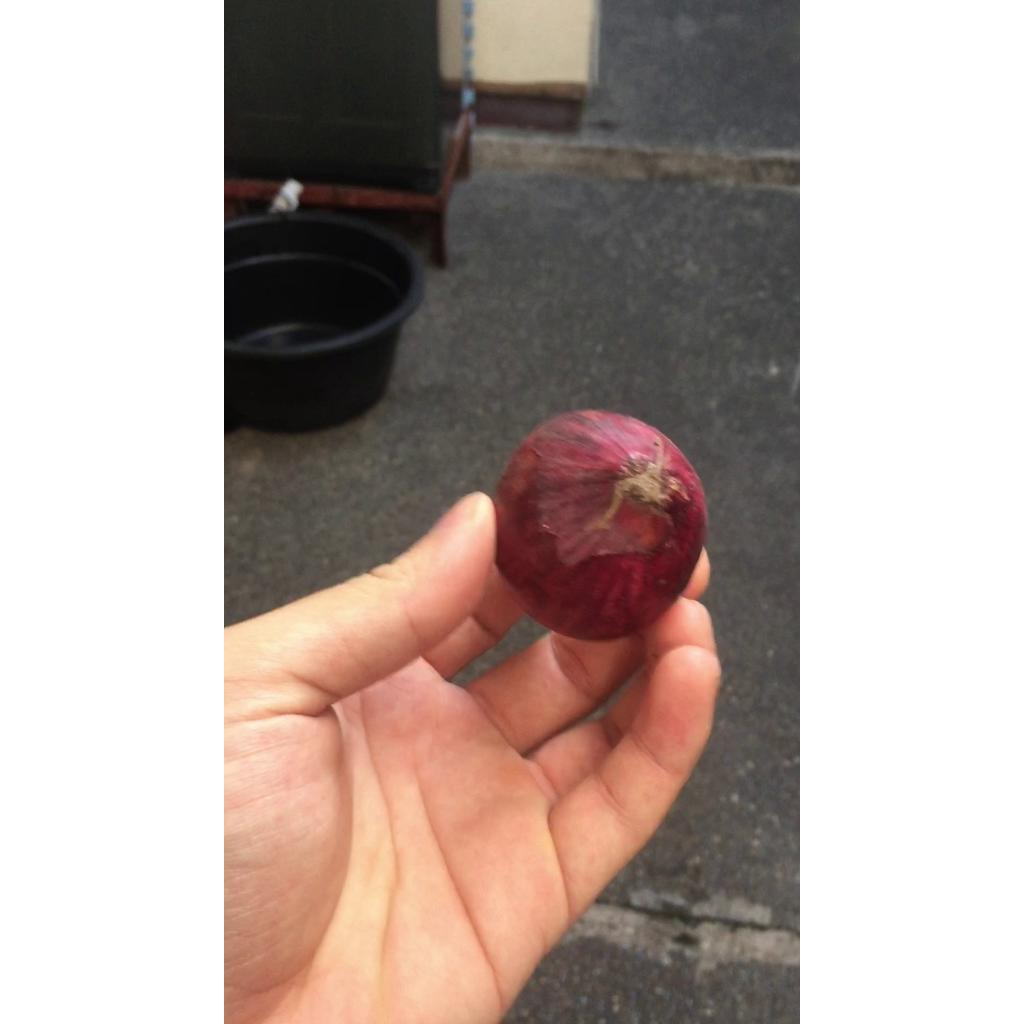Onion: (494, 410, 707, 640)
